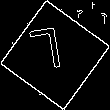L_S: (36, 28, 74, 82)
